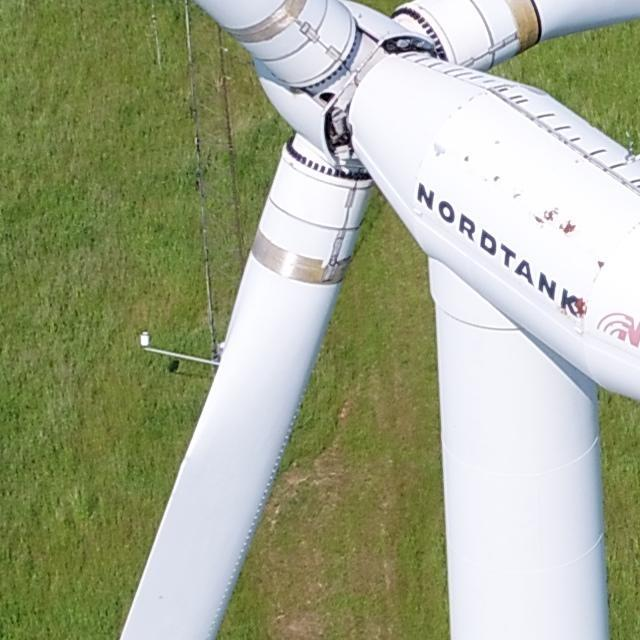damage: (560, 217, 577, 235), (431, 139, 446, 159), (574, 297, 588, 317), (542, 207, 555, 223), (533, 213, 546, 225), (595, 259, 605, 270), (511, 192, 523, 199), (493, 139, 503, 146), (464, 154, 470, 165), (494, 175, 501, 183)
